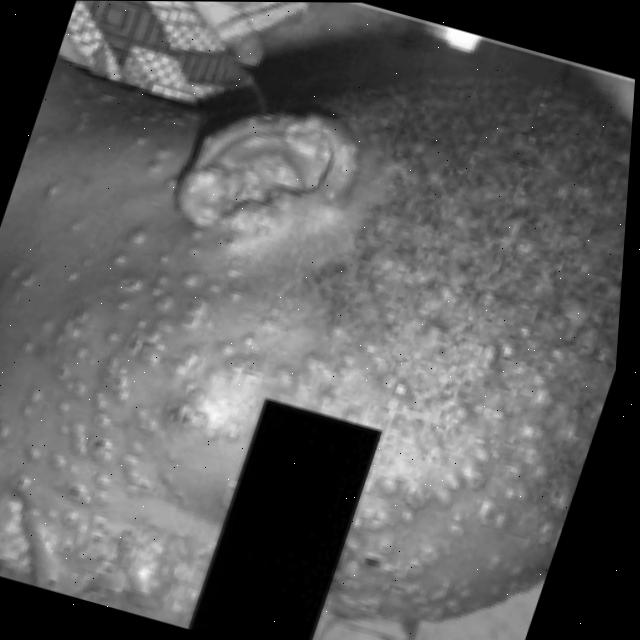Eczema: (367, 118, 632, 626), (0, 205, 276, 598)
